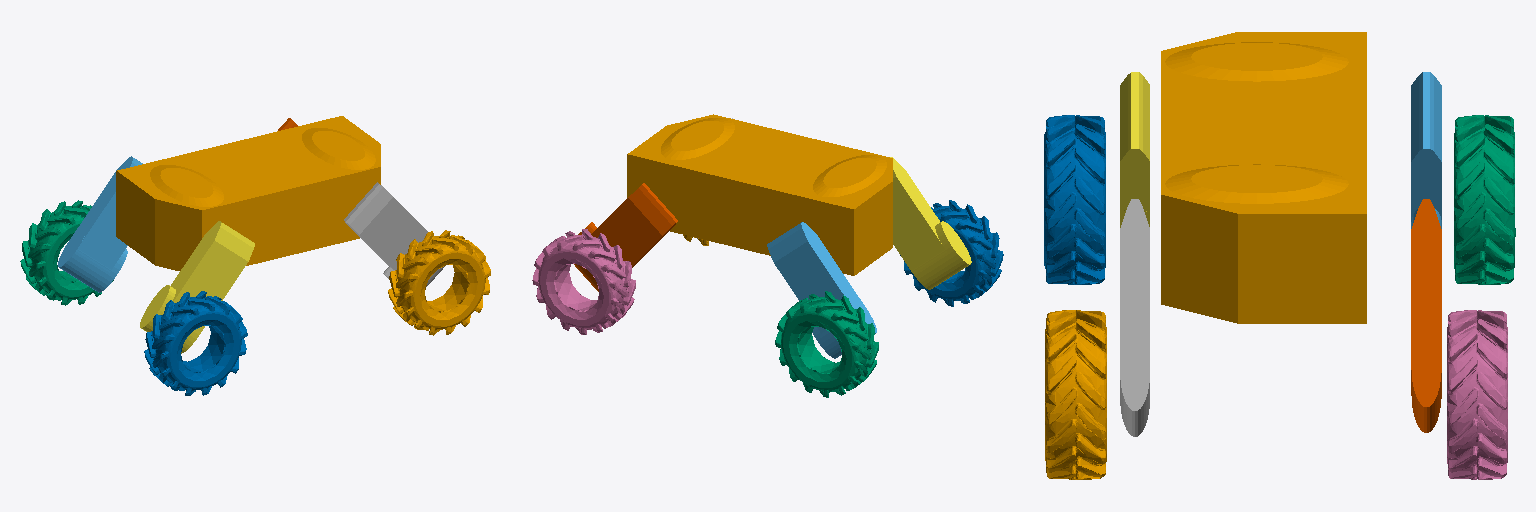
The robot description file, URDF, robot "Dagu5-Wheeled-Noplow-2":
<?xml version="1.0"?>
<!-- created with Phobos 0.7 -->
  <robot name="Dagu5-Wheeled-Noplow-2">

    <link name="link_Body">
      <inertial>
        <origin xyz="0 0 0" rpy="0 0 0"/>
        <mass value="5000.0"/>
        <inertia ixx="3204.013184" ixy="12.587505" ixz="66.439049" iyy="2336.016357" iyz="8.882775" izz="2757.174072"/>
      </inertial>
      <visual name="Body.001">
        <origin xyz="0 0 0" rpy="0 0 0"/>
        <geometry>
          <mesh filename="meshes/Cube.001.obj" scale="2.059298 1.0 0.507399"/>
        </geometry>
      </visual>
      <collision name="Body">
        <origin xyz="0 0 -0.079788" rpy="0 0 0"/>
        <geometry>
          <box size="3.604596 2.184321 0.871725"/>
        </geometry>
      </collision>
    </link>

    <link name="link_bl_Leg">
      <inertial>
        <origin xyz="0 0 0" rpy="0 0 0"/>
        <mass value="200.0"/>
        <inertia ixx="123.995445" ixy="0.394465" ixz="-24.988131" iyy="304.88501" iyz="-0.689927" izz="296.75412"/>
      </inertial>
      <visual name="bl_Leg.001">
        <origin xyz="0 0 0" rpy="-3.141593 0 0"/>
        <geometry>
          <mesh filename="meshes/Cube.003.obj" scale="0.68 0.126 0.353675"/>
        </geometry>
      </visual>
      <collision name="bl_Leg">
        <origin xyz="0.518794 0.013662 -0.004787" rpy="0 0 0"/>
        <geometry>
          <box size="1.837332 0.298121 0.712926"/>
        </geometry>
      </collision>
    </link>

    <link name="link_bl_Wheel">
      <inertial>
        <origin xyz="0 0 0" rpy="0 0 0"/>
        <mass value="10.0"/>
        <inertia ixx="2.7847" ixy="-2.4e-05" ixz="0.00011" iyy="1.587515" iyz="5.5e-05" izz="1.588269"/>
      </inertial>
      <visual name="tractor_wheel.004">
        <origin xyz="0 0 0" rpy="0 0 0"/>
        <geometry>
          <mesh filename="meshes/tractor_wheel.004.obj" scale="1.0 1.0 1.0"/>
        </geometry>
      </visual>
      <collision name="Cylinder.003">
        <origin xyz="-0.003421 -0.00649 0.002048" rpy="0 1.570796 0"/>
        <geometry>
          <cylinder radius="0.699155" length="0.490635"/>
        </geometry>
      </collision>
    </link>

    <link name="link_br_Leg">
      <inertial>
        <origin xyz="0 0 0" rpy="0 0 0"/>
        <mass value="200.0"/>
        <inertia ixx="123.995445" ixy="-0.394436" ixz="24.988148" iyy="304.88501" iyz="-0.689951" izz="296.754181"/>
      </inertial>
      <visual name="br_Leg.001">
        <origin xyz="0 0 0" rpy="0 0 0"/>
        <geometry>
          <mesh filename="meshes/Cube.006.obj" scale="0.68 0.126 0.353675"/>
        </geometry>
      </visual>
      <collision name="br_Leg">
        <origin xyz="0.511115 -0.014852 -0.004787" rpy="0 0 0"/>
        <geometry>
          <box size="1.837332 0.389566 0.712926"/>
        </geometry>
      </collision>
    </link>

    <link name="link_br_Wheel">
      <inertial>
        <origin xyz="0 0 0" rpy="0 0 0"/>
        <mass value="10.0"/>
        <inertia ixx="2.784698" ixy="-2.4e-05" ixz="0.000111" iyy="1.587515" iyz="5.5e-05" izz="1.588269"/>
      </inertial>
      <visual name="tractor_wheel">
        <origin xyz="0 0 0" rpy="0 0 0"/>
        <geometry>
          <mesh filename="meshes/tractor_wheel.obj" scale="1.0 1.0 1.0"/>
        </geometry>
      </visual>
      <collision name="Cylinder">
        <origin xyz="0.008575 -0.00649 -0.006696" rpy="0 1.570796 0"/>
        <geometry>
          <cylinder radius="0.699155" length="0.490635"/>
        </geometry>
      </collision>
    </link>

    <link name="link_fl_Leg">
      <inertial>
        <origin xyz="0 0 0" rpy="0 0 0"/>
        <mass value="200.0"/>
        <inertia ixx="123.995567" ixy="0.394514" ixz="-24.988169" iyy="304.88501" iyz="-0.690019" izz="296.754181"/>
      </inertial>
      <visual name="fl_Leg">
        <origin xyz="0 0 0" rpy="-3.141593 0 0"/>
        <geometry>
          <mesh filename="meshes/Cube.002.obj" scale="0.680185 0.126111 0.353675"/>
        </geometry>
      </visual>
      <collision name="fl_Leg.001">
        <origin xyz="0.528119 -0.014687 -0.004787" rpy="0 0 0"/>
        <geometry>
          <box size="1.837832 0.298121 0.712926"/>
        </geometry>
      </collision>
    </link>

    <link name="link_fl_Wheel">
      <inertial>
        <origin xyz="0 0 0" rpy="0 0 0"/>
        <mass value="10.0"/>
        <inertia ixx="2.784698" ixy="-2.3e-05" ixz="0.000111" iyy="1.587514" iyz="5.5e-05" izz="1.588269"/>
      </inertial>
      <visual name="tractor_wheel.003">
        <origin xyz="0 0 0" rpy="0 0 0"/>
        <geometry>
          <mesh filename="meshes/tractor_wheel.003.obj" scale="1.0 1.0 1.0"/>
        </geometry>
      </visual>
      <collision name="Cylinder.002">
        <origin xyz="-0.016557 -0.022196 -0.034276" rpy="0 1.570796 0"/>
        <geometry>
          <cylinder radius="0.699155" length="0.490635"/>
        </geometry>
      </collision>
    </link>

    <link name="link_fr_Leg">
      <inertial>
        <origin xyz="0 0 0" rpy="0 0 0"/>
        <mass value="200.0"/>
        <inertia ixx="123.99556" ixy="-0.394538" ixz="24.988129" iyy="304.88501" iyz="-0.690026" izz="296.754181"/>
      </inertial>
      <visual name="fr_Leg">
        <origin xyz="0 0 0" rpy="0 0 0"/>
        <geometry>
          <mesh filename="meshes/Cube.005.obj" scale="0.680185 0.126 0.353675"/>
        </geometry>
      </visual>
      <collision name="fr_Leg.001">
        <origin xyz="0.523355 -0.016815 -0.004787" rpy="0 0 0"/>
        <geometry>
          <box size="1.837831 0.379697 0.712926"/>
        </geometry>
      </collision>
    </link>

    <link name="link_fr_Wheel">
      <inertial>
        <origin xyz="0 0 0" rpy="0 0 0"/>
        <mass value="10.0"/>
        <inertia ixx="2.7847" ixy="-2.3e-05" ixz="0.000111" iyy="1.587514" iyz="5.5e-05" izz="1.588269"/>
      </inertial>
      <visual name="tractor_wheel.002">
        <origin xyz="0 0 0" rpy="0 0 0"/>
        <geometry>
          <mesh filename="meshes/tractor_wheel.002.obj" scale="1.0 1.0 1.0"/>
        </geometry>
      </visual>
      <collision name="Cylinder.001">
        <origin xyz="0.016223 -0.022196 -0.034276" rpy="0 1.570796 0"/>
        <geometry>
          <cylinder radius="0.699155" length="0.490635"/>
        </geometry>
      </collision>
    </link>

    <joint name="link_bl_Leg" type="fixed">
      <origin xyz="-1.2458 1.218903 -0.142793" rpy="0 2.268928 0"/>
      <parent link="link_Body"/>
      <child link="link_bl_Leg"/>
    </joint>

    <joint name="link_bl_Wheel" type="revolute">
      <origin xyz="1.19065 0.485843 0.090356" rpy="-2.443461 0 -1.570796"/>
      <parent link="link_bl_Leg"/>
      <child link="link_bl_Wheel"/>
      <limit effort="0" velocity="1.0"/>
    </joint>

    <joint name="link_br_Leg" type="fixed">
      <origin xyz="-1.2458 -1.2189 -0.142793" rpy="0 2.268928 0"/>
      <parent link="link_Body"/>
      <child link="link_br_Leg"/>
    </joint>

    <joint name="link_br_Wheel" type="revolute">
      <origin xyz="1.19065 -0.500957 0.090356" rpy="-2.443461 0 -1.570796"/>
      <parent link="link_br_Leg"/>
      <child link="link_br_Wheel"/>
      <limit effort="0" velocity="1.0"/>
    </joint>

    <joint name="link_fl_Leg" type="fixed">
      <origin xyz="1.245803 1.218903 -0.142793" rpy="0 0.872665 0"/>
      <parent link="link_Body"/>
      <child link="link_fl_Leg"/>
    </joint>

    <joint name="link_fl_Wheel" type="revolute">
      <origin xyz="1.185563 0.426807 -0.071985" rpy="2.443461 0 -1.570796"/>
      <parent link="link_fl_Leg"/>
      <child link="link_fl_Wheel"/>
      <limit effort="0" velocity="1.0"/>
    </joint>

    <joint name="link_fr_Leg" type="fixed">
      <origin xyz="1.245803 -1.2189 -0.142793" rpy="0 0.872665 0"/>
      <parent link="link_Body"/>
      <child link="link_fr_Leg"/>
    </joint>

    <joint name="link_fr_Wheel" type="revolute">
      <origin xyz="1.185563 -0.49331 -0.071985" rpy="2.443461 0 -1.570796"/>
      <parent link="link_fr_Leg"/>
      <child link="link_fr_Wheel"/>
      <limit effort="0" velocity="1.0"/>
    </joint>

  </robot>

--- Facts derived from the render (not from the file) ---
The picture shows the robot from 3 angles, left to right: view 1: azimuth 30°, elevation 25°; view 2: azimuth 150°, elevation 25°; view 3: azimuth 270°, elevation 25°; orthographic projection.
Robot: Dagu5-Wheeled-Noplow-2 — 9 links, 8 joints (4 revolute, 4 fixed); root link link_Body; default pose: every joint at zero.
Visible links, largest first — view 1: link_Body, link_fr_Wheel, link_br_Wheel, link_br_Leg, link_bl_Leg, link_bl_Wheel, link_fr_Leg; view 2: link_Body, link_bl_Wheel, link_fl_Wheel, link_br_Leg, link_bl_Leg, link_br_Wheel, link_fl_Leg; view 3: link_Body, link_fr_Wheel, link_br_Wheel, link_bl_Wheel, link_fl_Wheel, link_fl_Leg, link_fr_Leg, link_bl_Leg, link_br_Leg.
Link boxes in pixels (x1,y1,x2,y2): link_Body: [116, 116, 380, 270]; link_fr_Wheel: [388, 230, 490, 335]; link_br_Wheel: [144, 291, 247, 395]; link_br_Leg: [140, 221, 254, 353]; link_bl_Leg: [58, 156, 142, 292]; link_bl_Wheel: [20, 200, 113, 305]; link_fr_Leg: [344, 182, 444, 286]; link_Body: [627, 114, 892, 275]; link_bl_Wheel: [775, 291, 878, 397]; link_fl_Wheel: [532, 229, 635, 334]; link_br_Leg: [890, 157, 971, 289]; link_bl_Leg: [767, 222, 876, 358]; link_br_Wheel: [900, 200, 1003, 306]; link_fl_Leg: [574, 183, 677, 291]; link_Body: [1161, 32, 1366, 323]; link_fr_Wheel: [1045, 310, 1106, 479]; link_br_Wheel: [1044, 115, 1105, 284]; link_bl_Wheel: [1454, 115, 1515, 284]; link_fl_Wheel: [1447, 310, 1507, 479]; link_fl_Leg: [1411, 199, 1441, 432]; link_fr_Leg: [1120, 199, 1149, 436]; link_bl_Leg: [1411, 72, 1441, 228]; link_br_Leg: [1120, 72, 1149, 227].
Size in the robot's own frame: 5.32 by 3.94 by 2.38 metres.
9 mesh visuals loaded from 9 distinct referenced files (9 OBJ).